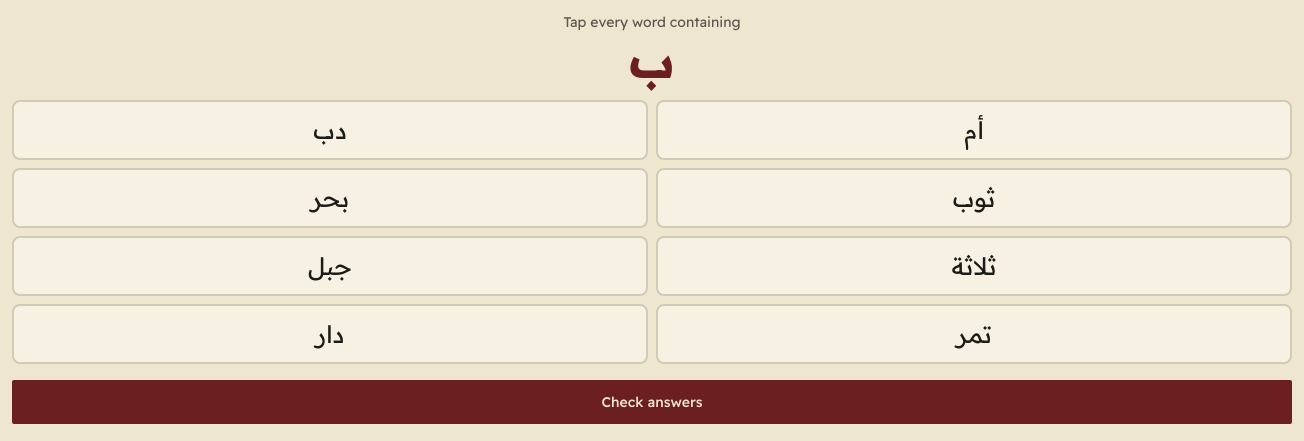
answering › marks a word as chosen when tapped
Click the button "دب": (330, 130) [12,100,648,160]
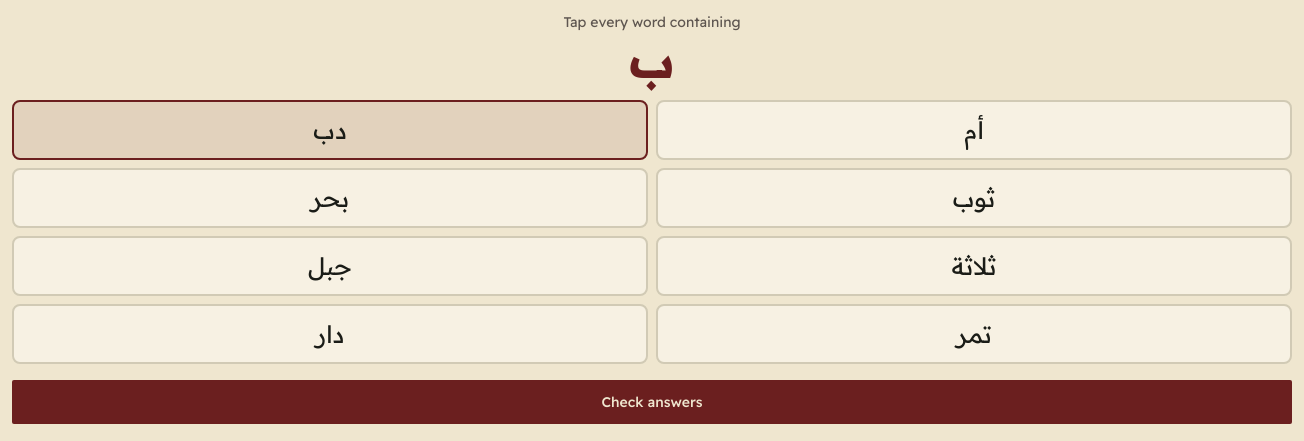
Now the button "دب" has class "border-primary", box [12,100,648,160]
